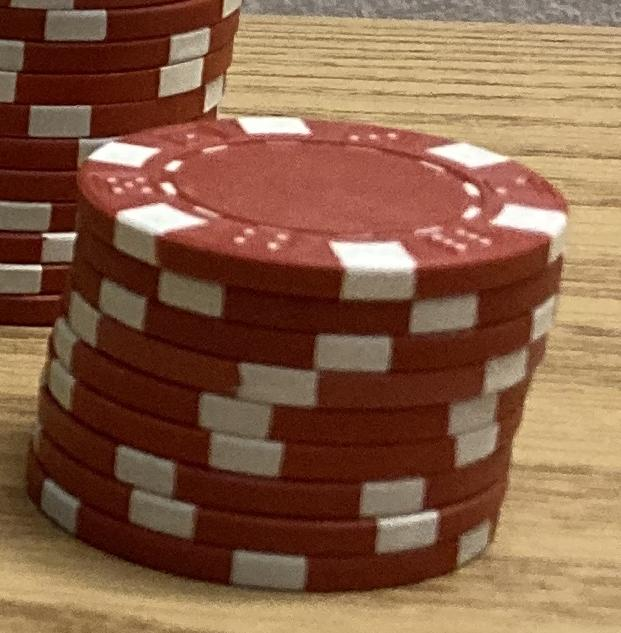Chip: (1, 1, 621, 633)
